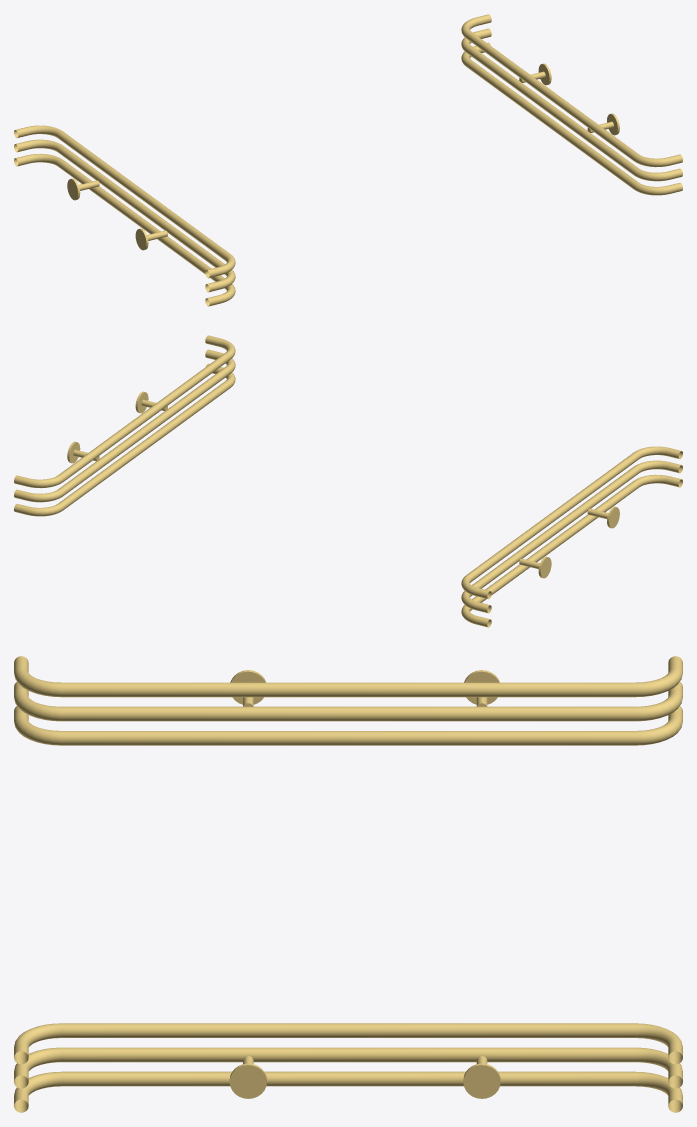
File: handrail_FS013.glb
The picture shows the model from 3 angles, top to bottom: view 1: azimuth 30°, elevation 25°; view 2: azimuth 150°, elevation 25°; view 3: azimuth 270°, elevation 25°; orthographic projection. The views are drawn at different scales.
Visible parts, largest first — view 1: Handrail_R, Handrail_L; view 2: Handrail_R, Handrail_L; view 3: Handrail_L, Handrail_R, Handrail_R_Rosette_1, Handrail_R_Rosette_2.
Boxes of the visible parts, x1,y1,x2,y2 form: Handrail_R: [461, 14, 682, 195]; Handrail_L: [14, 125, 235, 306]; Handrail_R: [14, 335, 235, 516]; Handrail_L: [461, 446, 682, 627]; Handrail_L: [14, 656, 682, 745]; Handrail_R: [14, 1023, 682, 1112]; Handrail_R_Rosette_1: [229, 1063, 266, 1098]; Handrail_R_Rosette_2: [463, 1063, 500, 1098].
Bounding box in the file's own units: 1.4 × 0.102 × 1.
